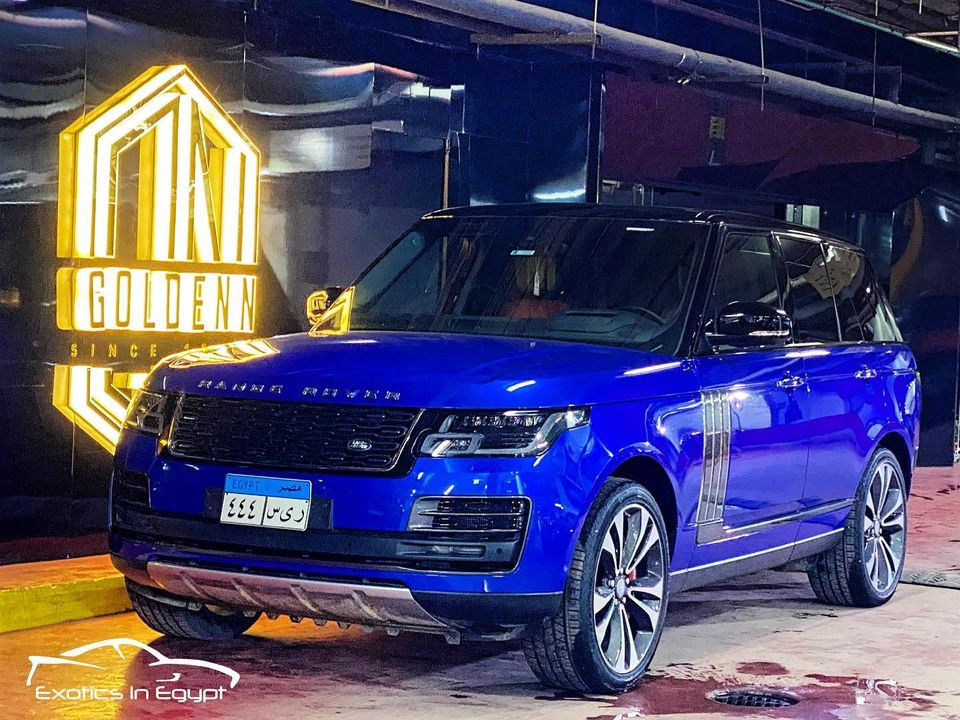carpl: (218, 480, 313, 525)
